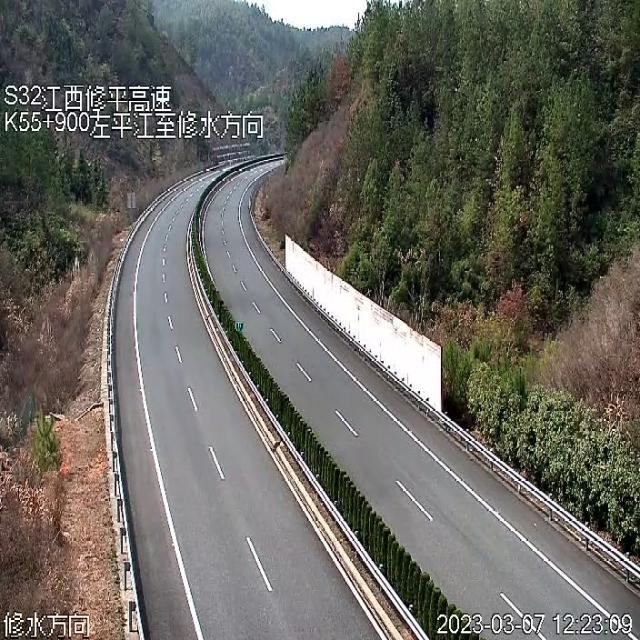point: (231, 134, 289, 191)
